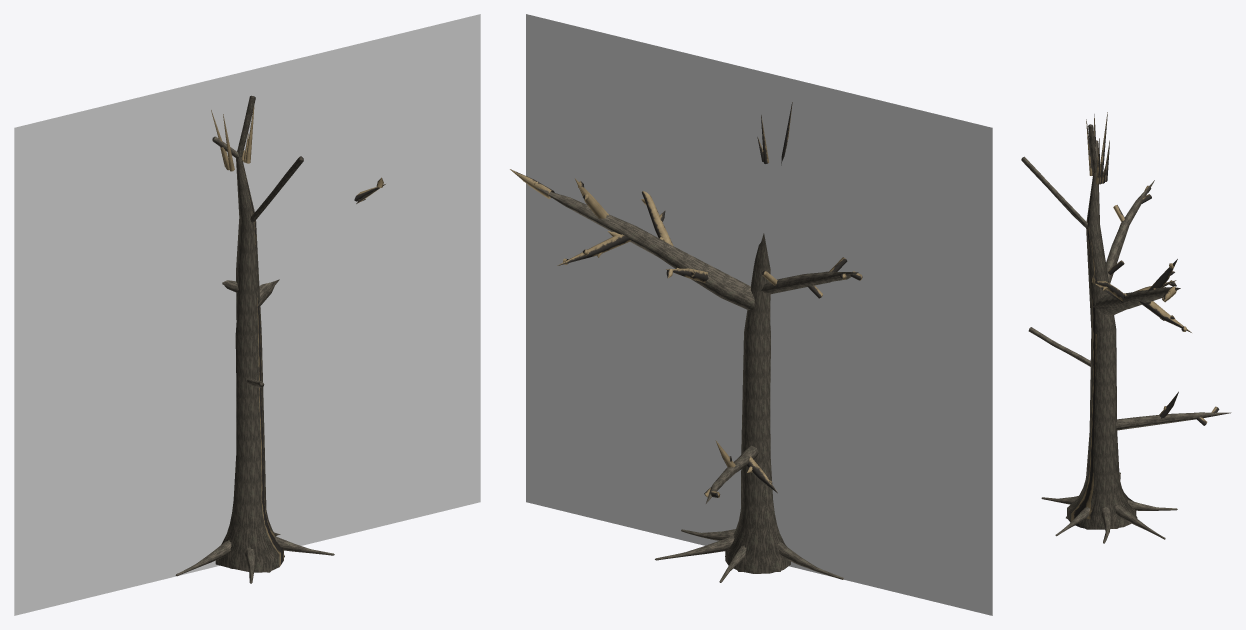
File: foudroye_adulte_a.fbx
The picture shows the model from 3 angles, left to right: view 1: azimuth 30°, elevation 25°; view 2: azimuth 150°, elevation 25°; view 3: azimuth 270°, elevation 25°; orthographic projection. The views are drawn at different scales.
Parts seen in each view (by area): view 1: foudroye_adulte_a_LOD3, foudroye_adulte_a_LOD1, foudroye_adulte_a_LOD2; view 2: foudroye_adulte_a_LOD3, foudroye_adulte_a_LOD1, foudroye_adulte_a_LOD2; view 3: foudroye_adulte_a_LOD1, foudroye_adulte_a_LOD2.
Boxes of the visible parts, x1,y1,x2,y2 form: foudroye_adulte_a_LOD3: [14, 14, 480, 615]; foudroye_adulte_a_LOD1: [175, 96, 385, 583]; foudroye_adulte_a_LOD2: [176, 95, 384, 583]; foudroye_adulte_a_LOD3: [526, 14, 992, 615]; foudroye_adulte_a_LOD1: [510, 102, 862, 582]; foudroye_adulte_a_LOD2: [511, 102, 861, 582]; foudroye_adulte_a_LOD1: [1021, 112, 1231, 543]; foudroye_adulte_a_LOD2: [1021, 112, 1228, 542].
Size of what is drawn, in the model's own units: 14 by 14 by 6.51.
